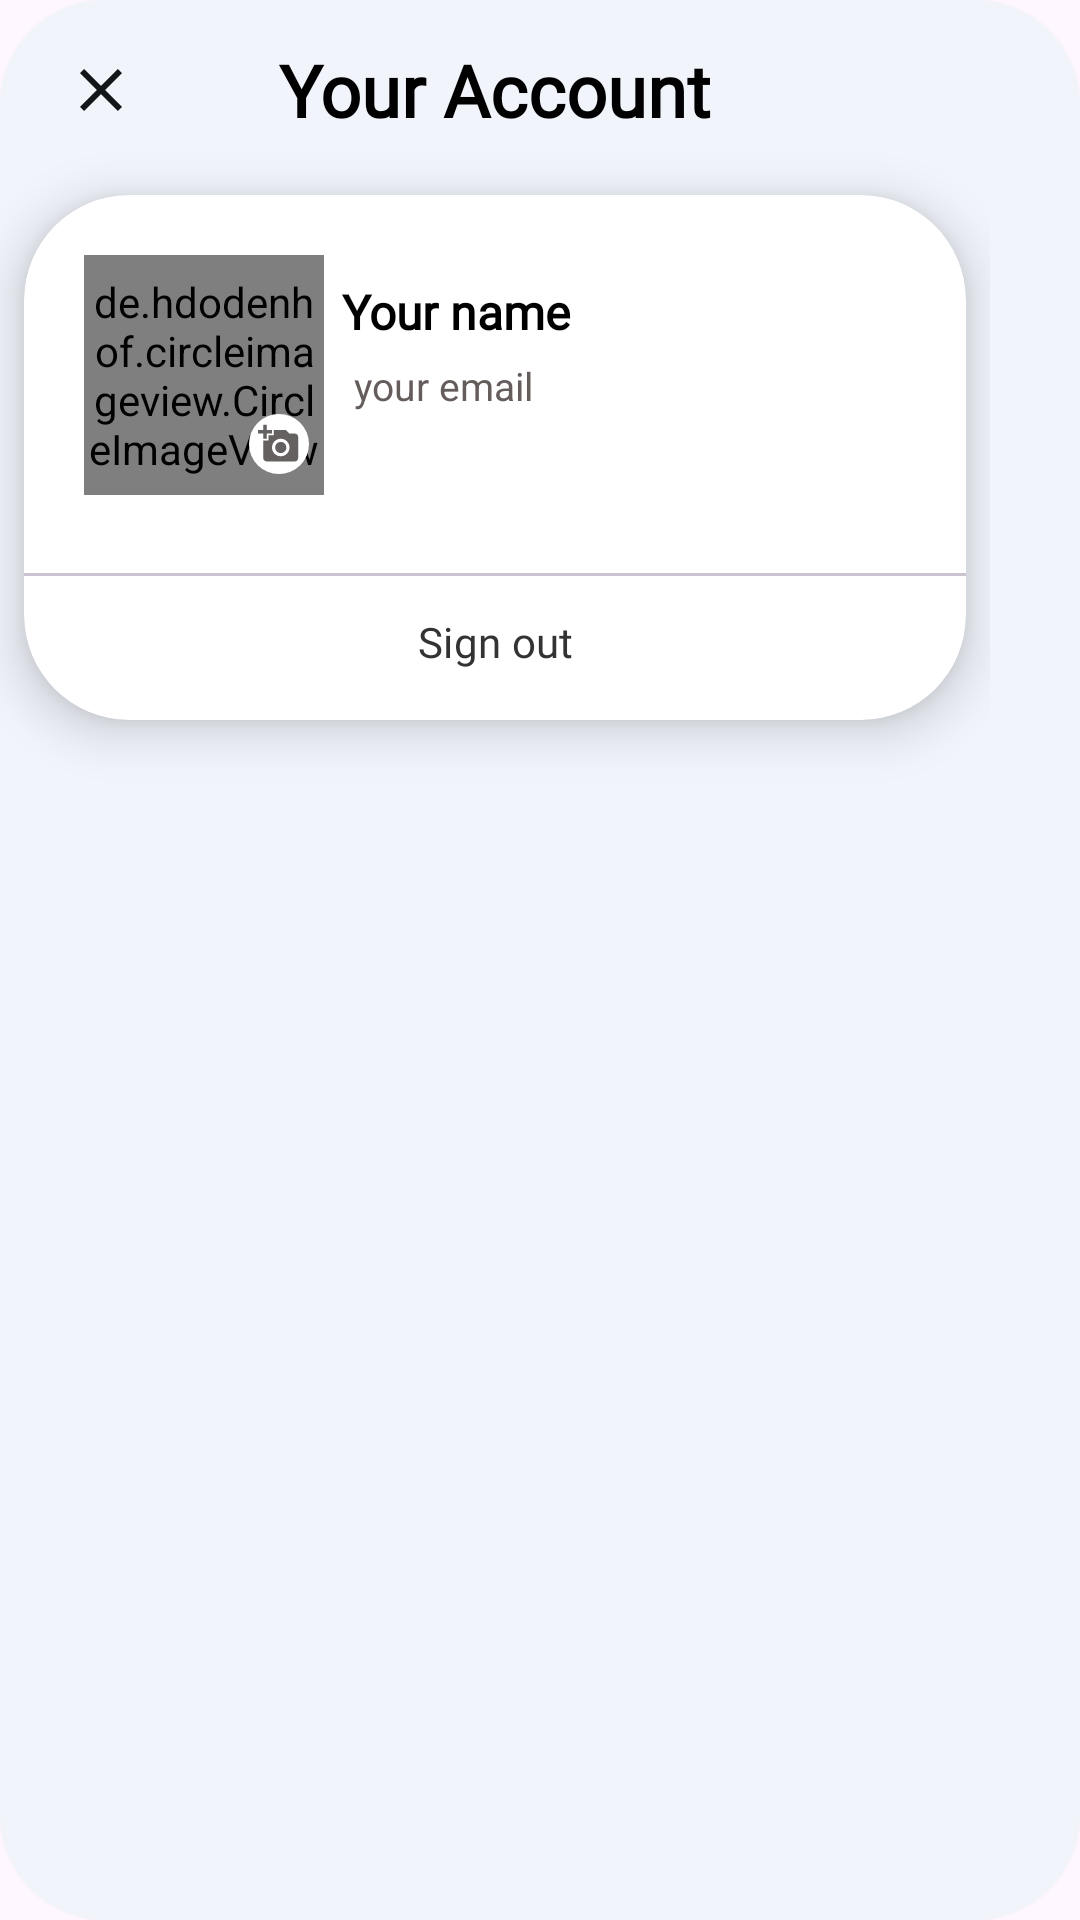

Locate icon controls on the screen. Image size 1080px×1920px, boxes as {"left": x1, "top": y1, "right": x2, "bottom": y2}.
add photo: {"left": 249, "top": 414, "right": 309, "bottom": 474}
close: {"left": 80, "top": 69, "right": 122, "bottom": 111}
